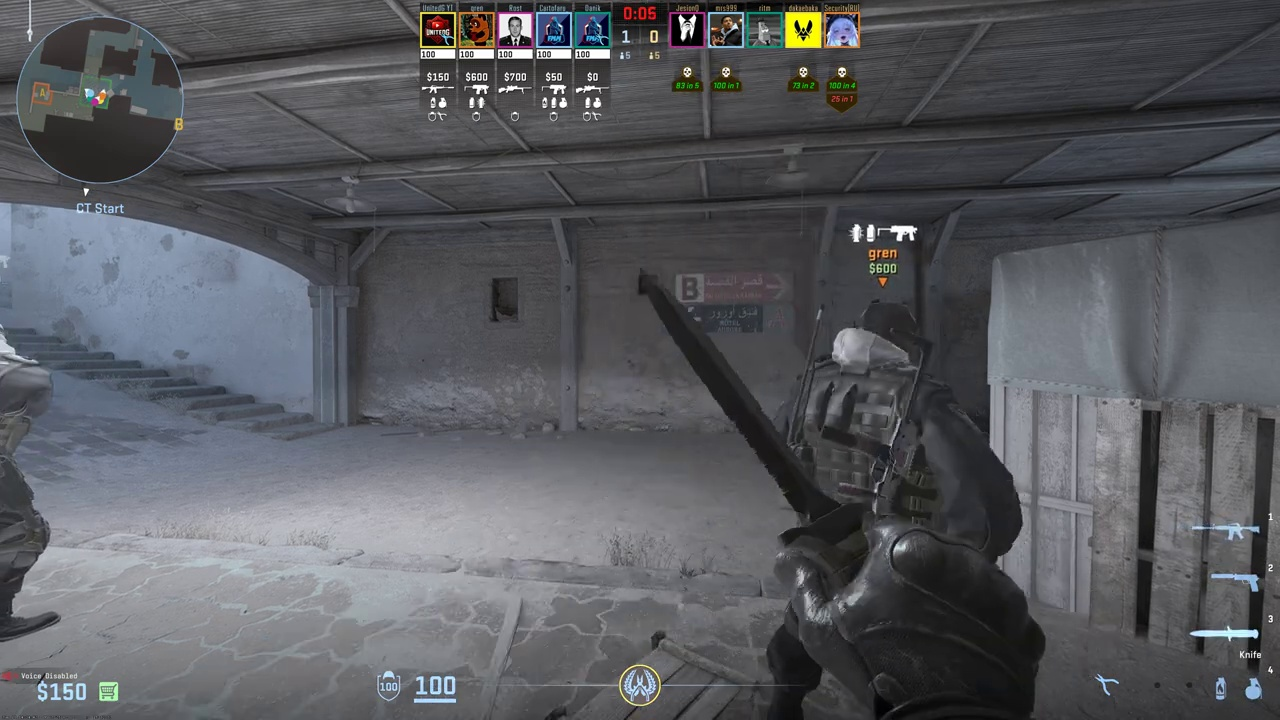CT: (772, 299, 999, 544), (0, 294, 52, 634)
